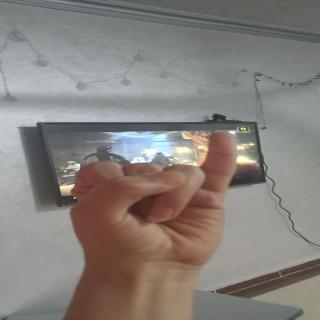MEEM: (58, 128, 256, 265)
